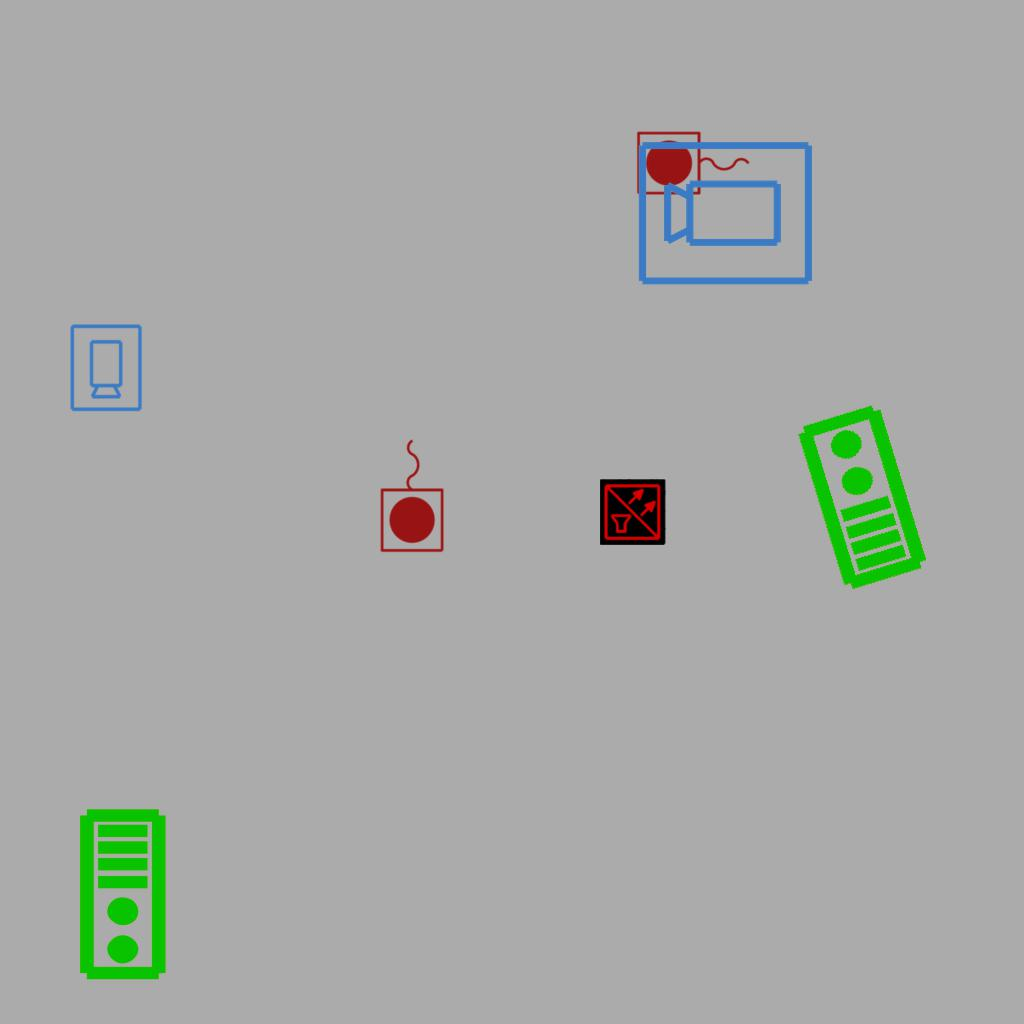Gegensprechanlage_mit_Video: (789, 398, 932, 596), (77, 807, 172, 983)
KFO_Kamera_mit_Festobjektiv: (635, 135, 817, 289), (67, 322, 144, 413)
OKW_Multisensormelder_(Kombination_optischer_Rauch-Kahlenmonoxid_Waerme-Melder): (600, 479, 666, 545)
Zugtaster: (633, 128, 755, 200), (377, 434, 449, 556)
